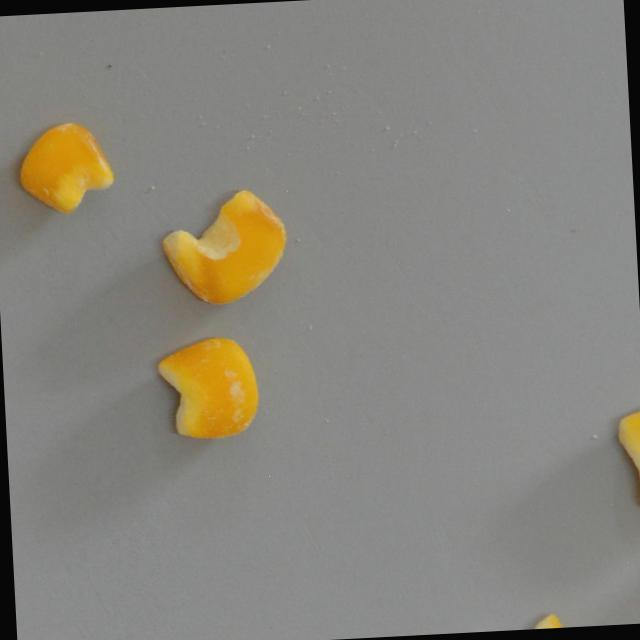no_canjicado: (615, 402, 640, 515)
pelicula: (159, 187, 288, 308), (157, 336, 262, 445), (15, 119, 117, 216), (460, 614, 576, 633)
